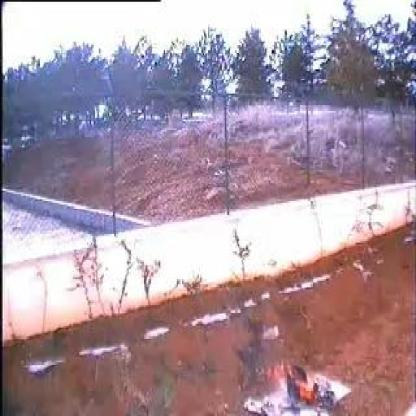foggia-v2-map80-epoch100 - v1 4323: (298, 381, 317, 406)
